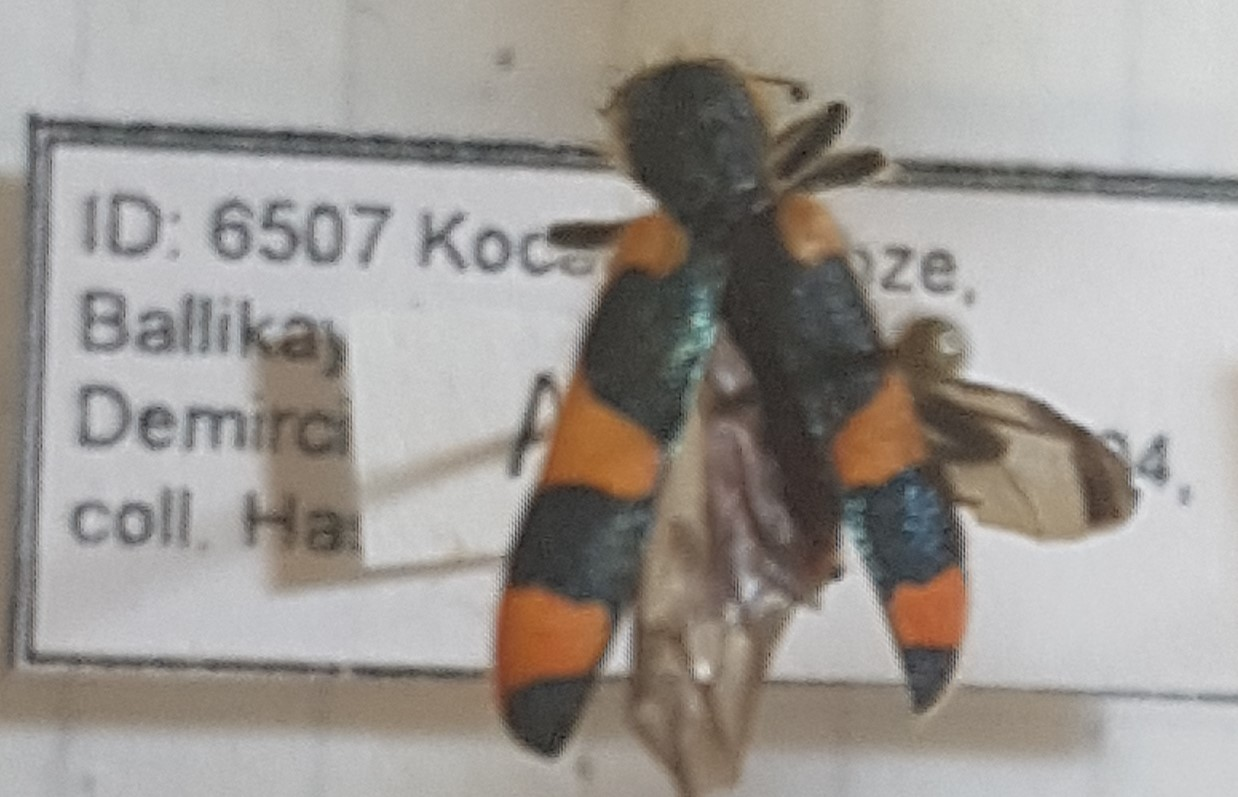trichodes_holtzi: (468, 38, 1137, 770)
